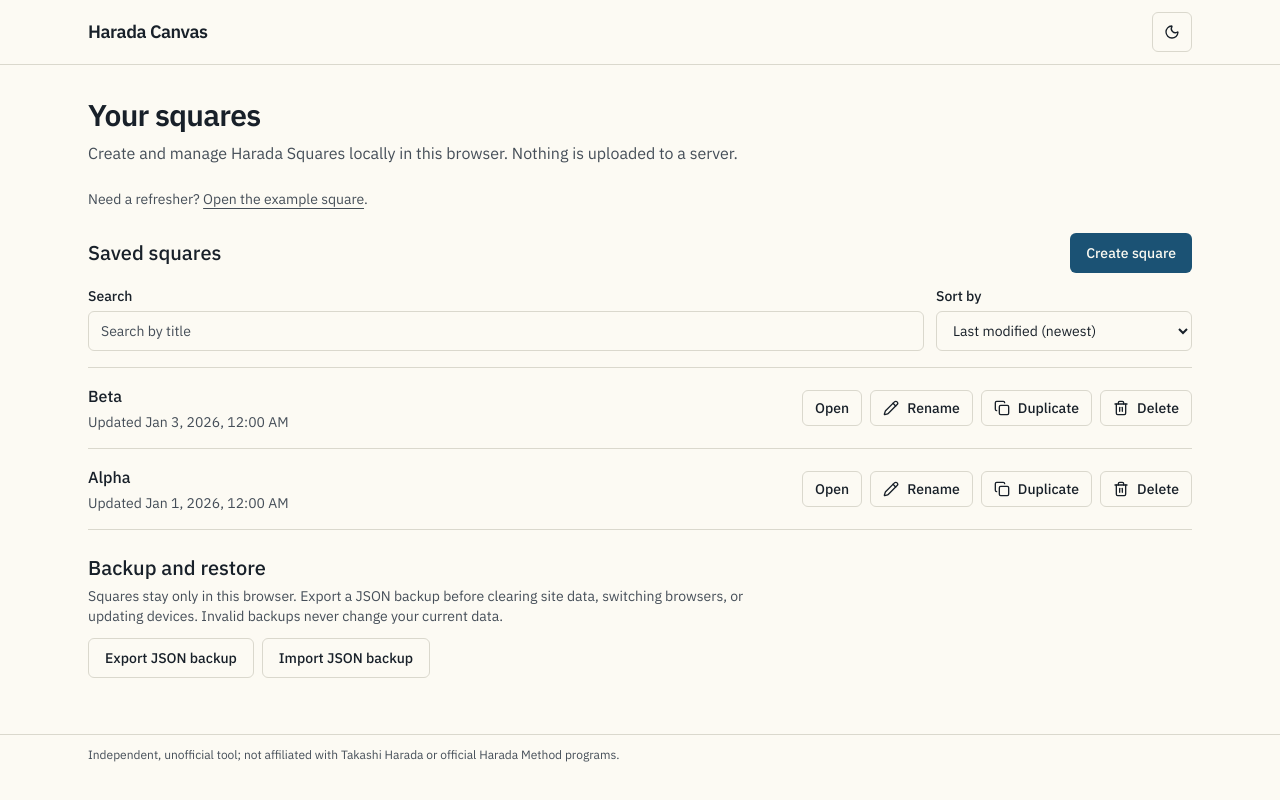
Test: dashboard management › searches and sorts squares
This screenshot has width=1280, height=800.
Step 1. Select "Name (A–Z)" in the dropdown labelled "Sort by" → (1064, 331), box [936,311,1192,351]
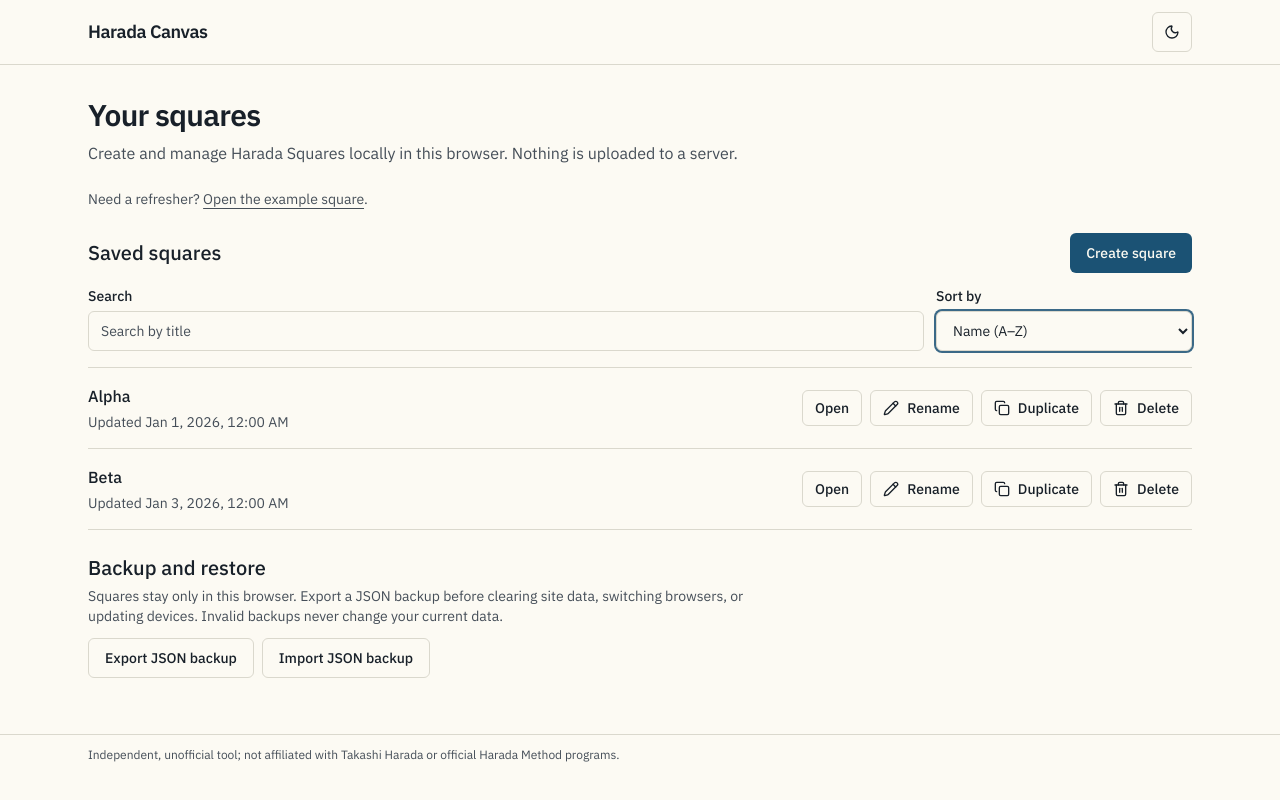
Expected: the link "Alpha" is shown, [88,386,131,406]
Expected: the link "Beta" is shown, [88,467,122,487]
Step 2. Type "bet" into the search field labelled "Search" → (506, 331), box [88,311,924,351]
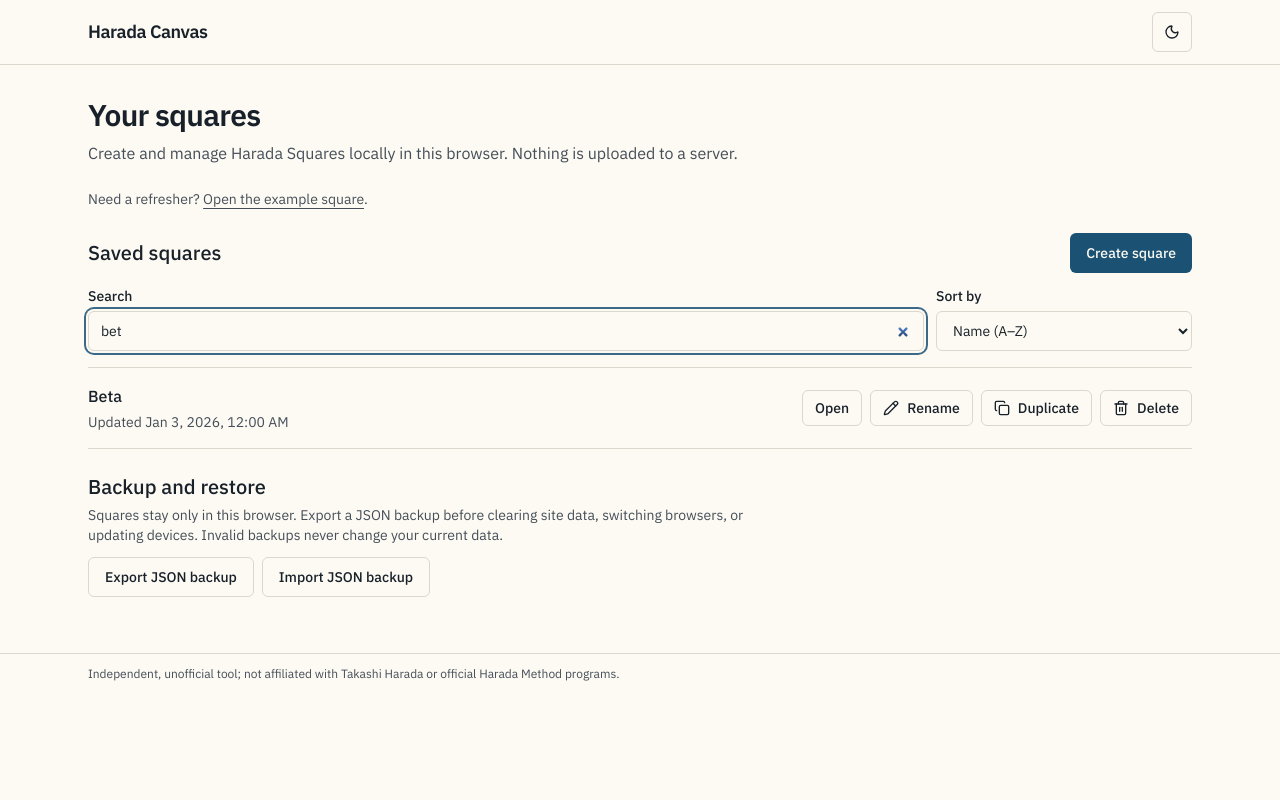
Expected: the link "Beta" is shown, [88,386,122,406]
Now the link "Alpha" is gone
